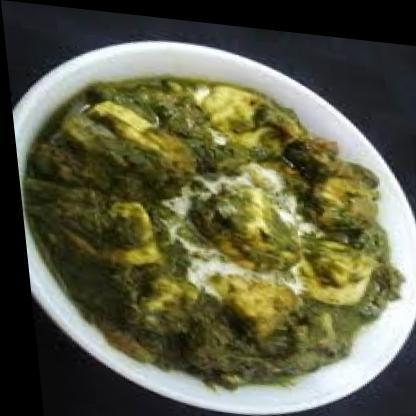palak_paneer: (7, 60, 410, 403)
